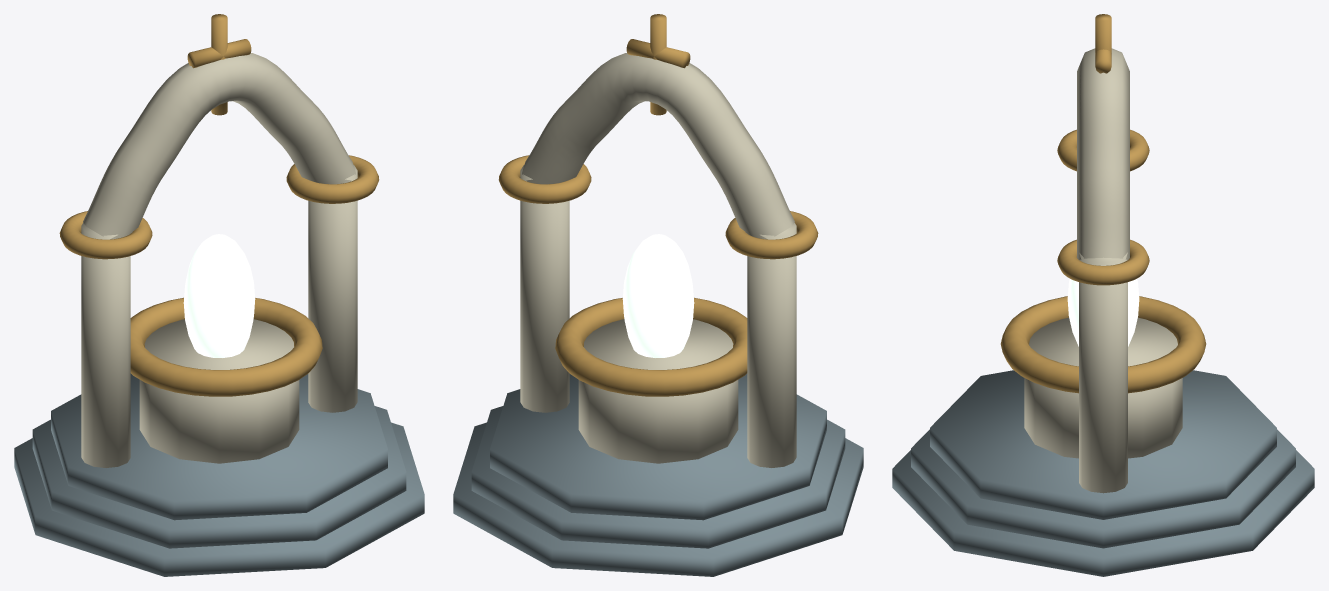
File: sanctuary-1.glb
The picture shows the model from 3 angles, left to right: view 1: azimuth 30°, elevation 25°; view 2: azimuth 150°, elevation 25°; view 3: azimuth 270°, elevation 25°; orthographic projection.
Visible parts, largest first — view 1: Foundation_Ivory carving.003, Foundation_Carved blue limestone.003, Foundation_Aged brass.003, Core_Dawn light; view 2: Foundation_Ivory carving.003, Foundation_Carved blue limestone.003, Foundation_Aged brass.003, Core_Dawn light; view 3: Foundation_Carved blue limestone.003, Foundation_Ivory carving.003, Foundation_Aged brass.003, Core_Dawn light.
Part boxes in pixels (x1,y1,x2,y2): Foundation_Ivory carving.003: (81,53,357,467); Foundation_Carved blue limestone.003: (14,373,424,576); Foundation_Aged brass.003: (59,14,379,396); Core_Dawn light: (183,234,255,357); Foundation_Ivory carving.003: (520,53,796,467); Foundation_Carved blue limestone.003: (453,373,863,576); Foundation_Aged brass.003: (498,14,818,396); Core_Dawn light: (622,234,694,357); Foundation_Carved blue limestone.003: (892,370,1314,576); Foundation_Ivory carving.003: (1024,48,1182,493); Foundation_Aged brass.003: (1000,14,1206,393); Core_Dawn light: (1067,279,1139,346).
Size of the model in its own units: 2.24 by 2.75 by 2.24.
